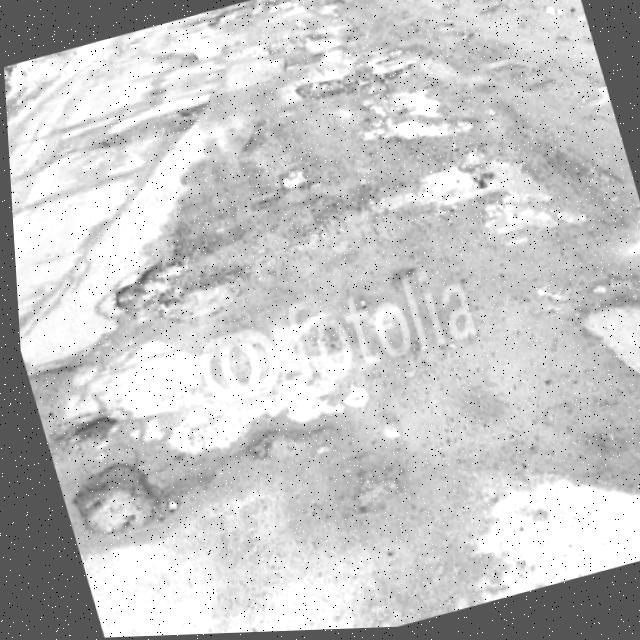Pothole: (345, 119, 600, 308), (343, 60, 531, 189), (87, 233, 270, 356), (549, 267, 640, 457), (48, 445, 179, 556), (281, 32, 450, 118), (17, 340, 122, 443), (87, 91, 214, 161), (39, 411, 138, 470), (271, 153, 339, 200)
